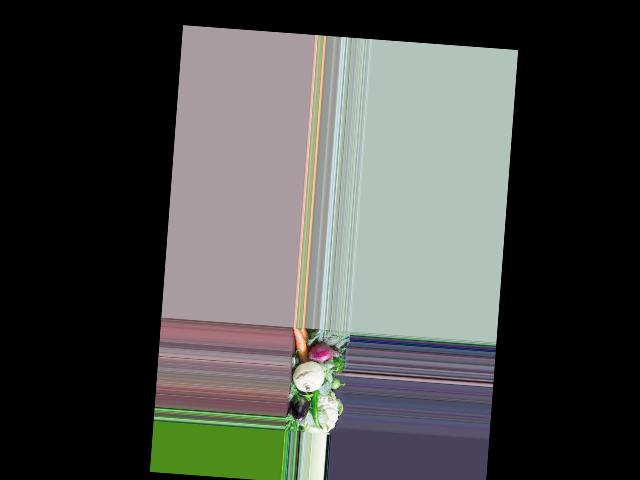carrot: (290, 326, 312, 356)
